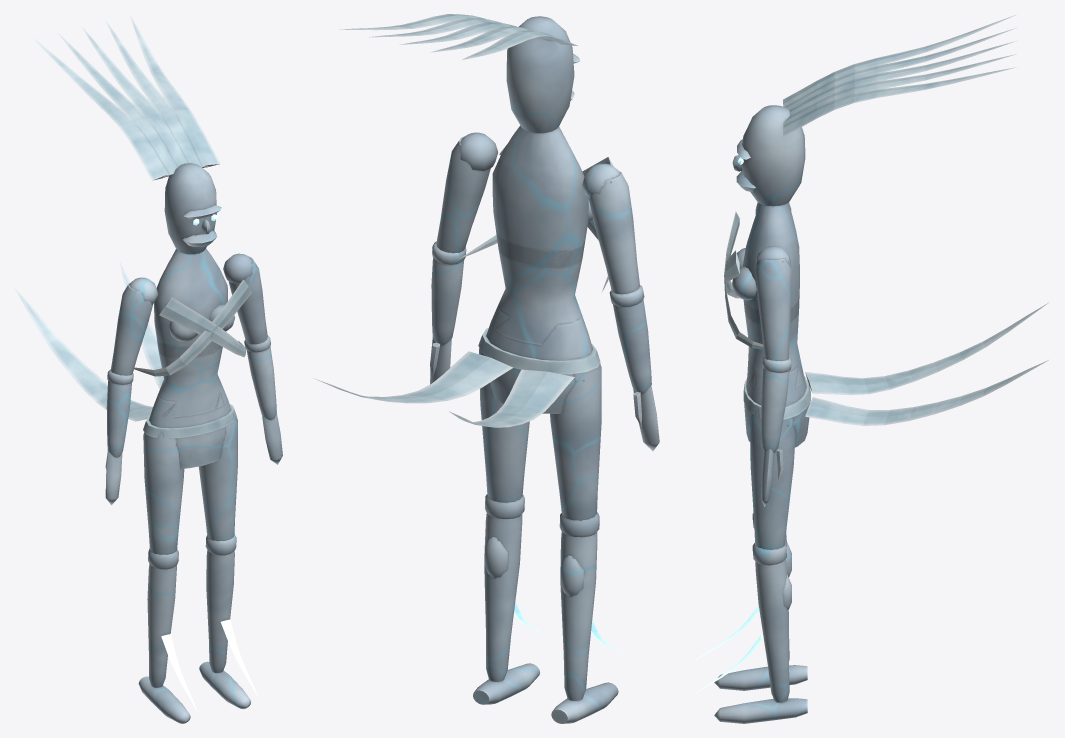
File: underworld-surtling-wind-feminine.glb
3 renders of one model, left to right at view 1: azimuth 30°, elevation 25°; view 2: azimuth 150°, elevation 25°; view 3: azimuth 270°, elevation 25°, orthographic. The views are drawn at different scales.
Visible parts, largest first — view 1: Chest.chest, LeftUpperLeg.thigh, Spine.abdomen, Head.head, RightUpperLeg.thigh, Hips.pelvis, LeftLowerLeg.shin, RightLowerLeg.shin, LeftUpperArm.upper-arm, Hips.sash-0, Head.plume-0, Head.plume-4 (+20 smaller); view 2: Chest.chest, Spine.abdomen, Head.head, LeftUpperLeg.thigh, LeftLowerLeg.shin, RightLowerLeg.shin, LeftUpperArm.upper-arm, Hips.pelvis, RightUpperLeg.thigh, RightUpperArm.upper-arm, Hips.sash-1, Hips.sash-0 (+17 smaller); view 3: Head.head, RightUpperLeg.thigh, RightLowerLeg.shin, RightUpperArm.upper-arm, Chest.chest, Hips.sash-0, Hips.sash-1, RightLowerArm.forearm, RightFoot.foot, Head.plume-4, Spine.abdomen, Head.plume-0 (+8 smaller).
Boxes of the visible parts, x1,y1,x2,y2 form: Chest.chest: [154, 248, 227, 359]; LeftUpperLeg.thigh: [143, 431, 184, 554]; Spine.abdomen: [158, 340, 227, 417]; Head.head: [164, 163, 216, 254]; RightUpperLeg.thigh: [199, 414, 237, 541]; Hips.pelvis: [149, 387, 231, 468]; LeftLowerLeg.shin: [147, 563, 176, 687]; RightLowerLeg.shin: [206, 550, 234, 672]; LeftUpperArm.upper-arm: [110, 283, 153, 375]; Hips.sash-0: [14, 288, 152, 421]; Head.plume-0: [34, 39, 169, 180]; Head.plume-4: [130, 15, 220, 167]; Chest.chest: [492, 125, 588, 267]; Spine.abdomen: [495, 234, 582, 345]; Head.head: [506, 16, 574, 133]; LeftUpperLeg.thigh: [550, 363, 601, 520]; LeftLowerLeg.shin: [560, 531, 597, 700]; RightLowerLeg.shin: [484, 513, 522, 681]; LeftUpperArm.upper-arm: [588, 171, 639, 294]; Hips.pelvis: [483, 306, 592, 413]; RightUpperLeg.thigh: [479, 348, 529, 502]; RightUpperArm.upper-arm: [436, 136, 490, 253]; Hips.sash-1: [314, 351, 512, 403]; Hips.sash-0: [449, 369, 574, 427]; Head.head: [741, 105, 805, 206]; RightUpperLeg.thigh: [750, 408, 795, 549]; RightLowerLeg.shin: [755, 559, 789, 702]; RightUpperArm.upper-arm: [755, 258, 791, 360]; Chest.chest: [742, 202, 799, 324]; Hips.sash-0: [805, 302, 1049, 395]; Hips.sash-1: [805, 360, 1048, 425]; RightLowerArm.forearm: [761, 368, 789, 452]; RightFoot.foot: [714, 698, 807, 723]; Head.plume-4: [783, 67, 1017, 136]; Spine.abdomen: [744, 303, 803, 392]; Head.plume-0: [783, 15, 1015, 106].
Size of the model in its own units: 0.6443 by 2.07 by 1.02.
3 materials, 3 textured.
